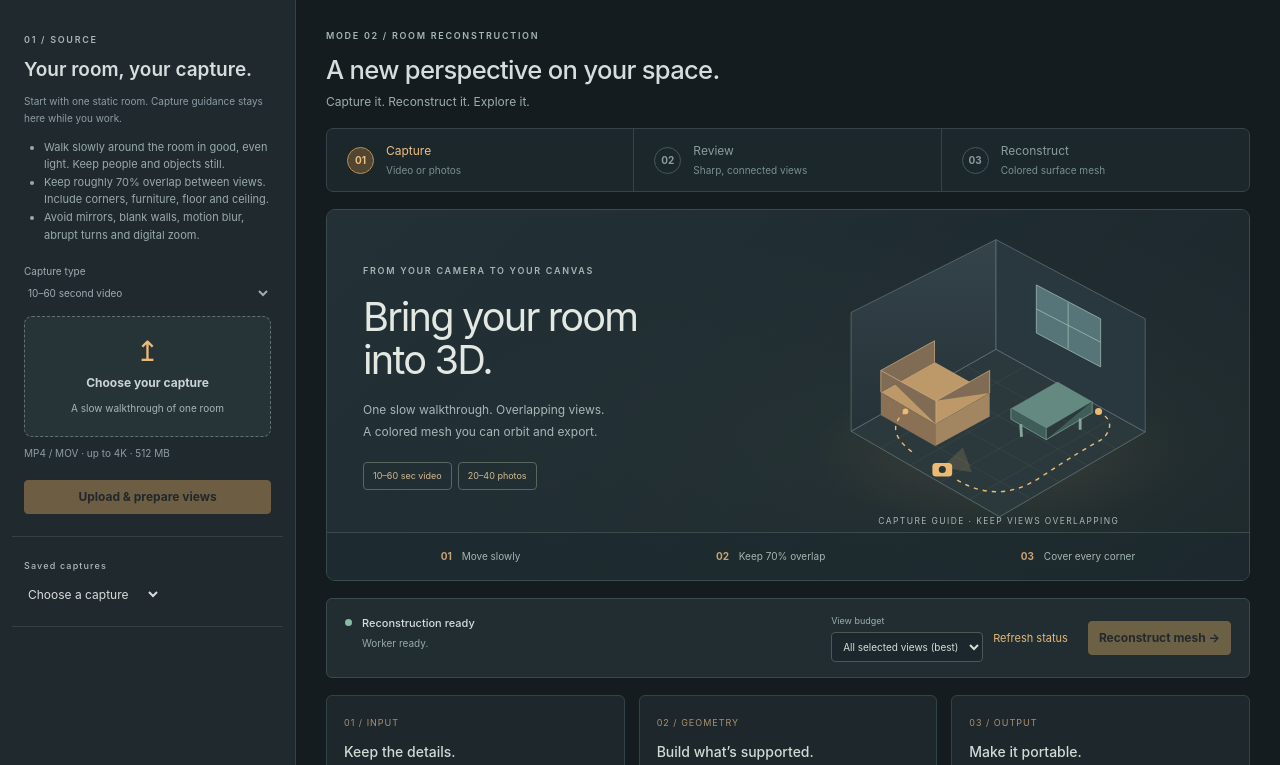
Test: capture ingestion UI › reopens a failed capture with an actionable error
Select "My room · p_capture" in the dropdown named "Saved captures" at (92, 594), box [24,586,161,603]
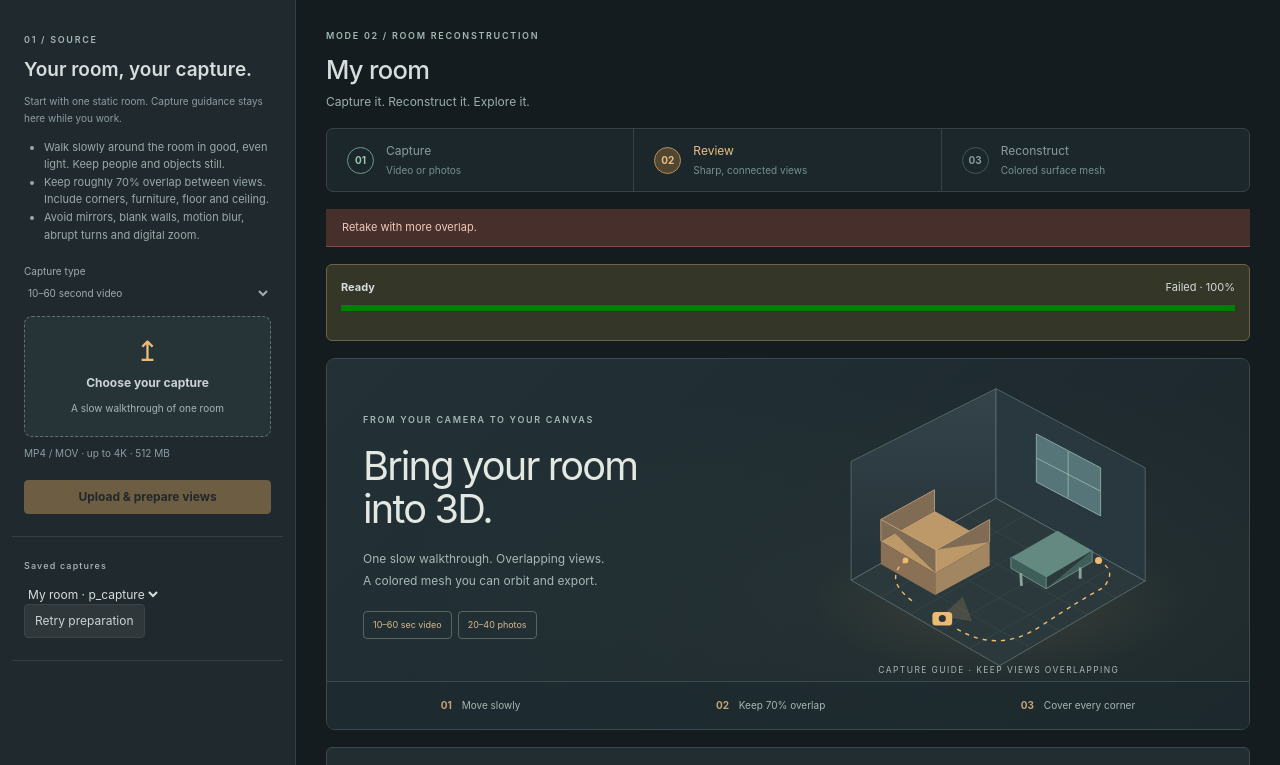
Now the message "Retake with more overlap." is shown, box [326,209,1250,247]
Now the button "Retry preparation" is enabled, box [24,604,144,638]
